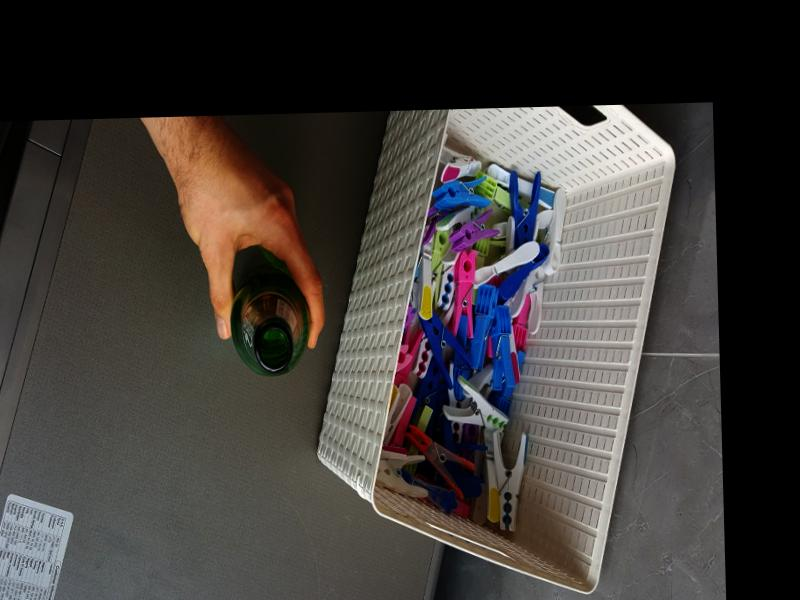Beer: (228, 263, 310, 377)
